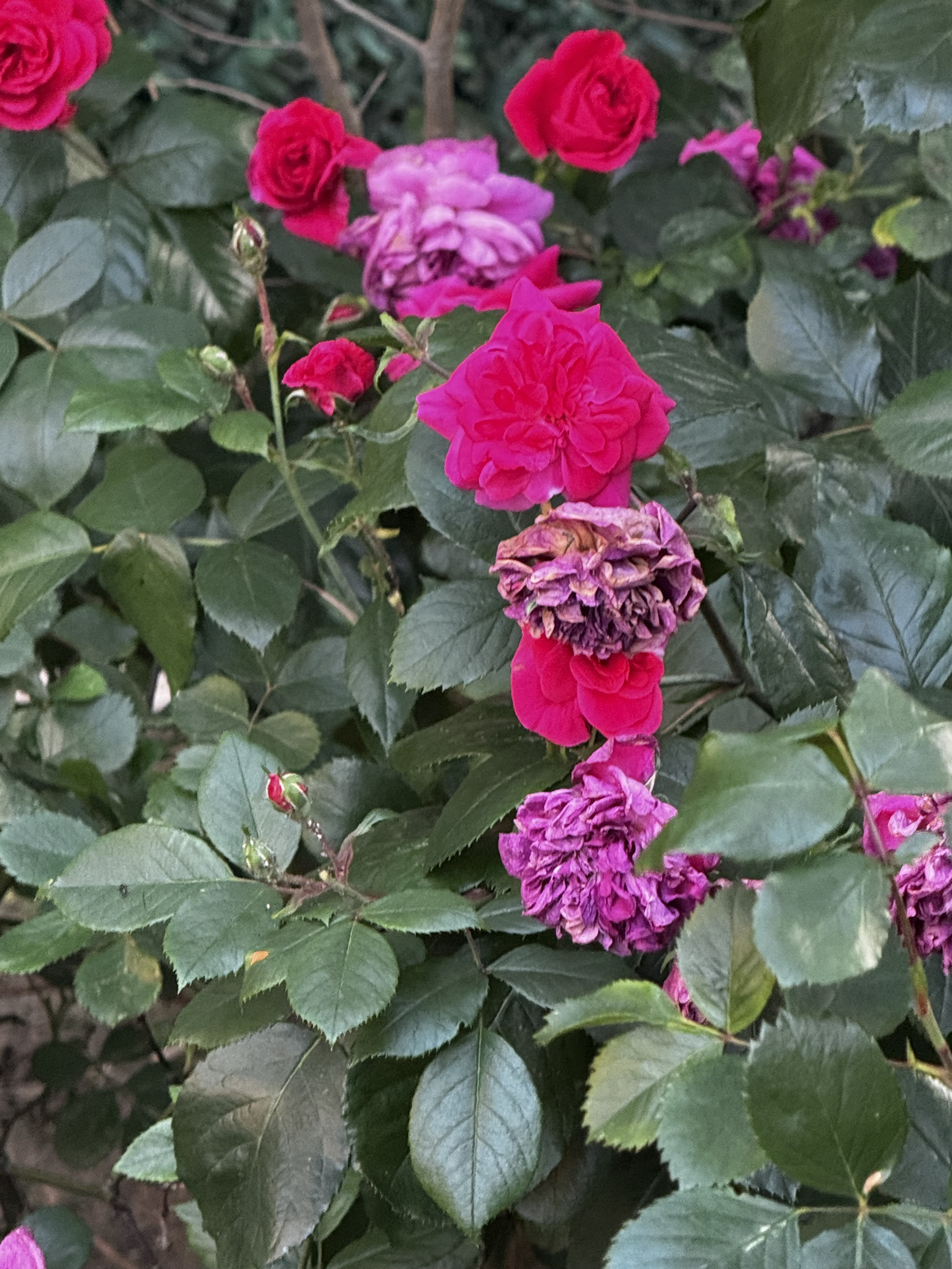rose: (500, 13, 676, 187), (229, 99, 385, 257), (511, 625, 667, 755), (0, 5, 120, 133)
